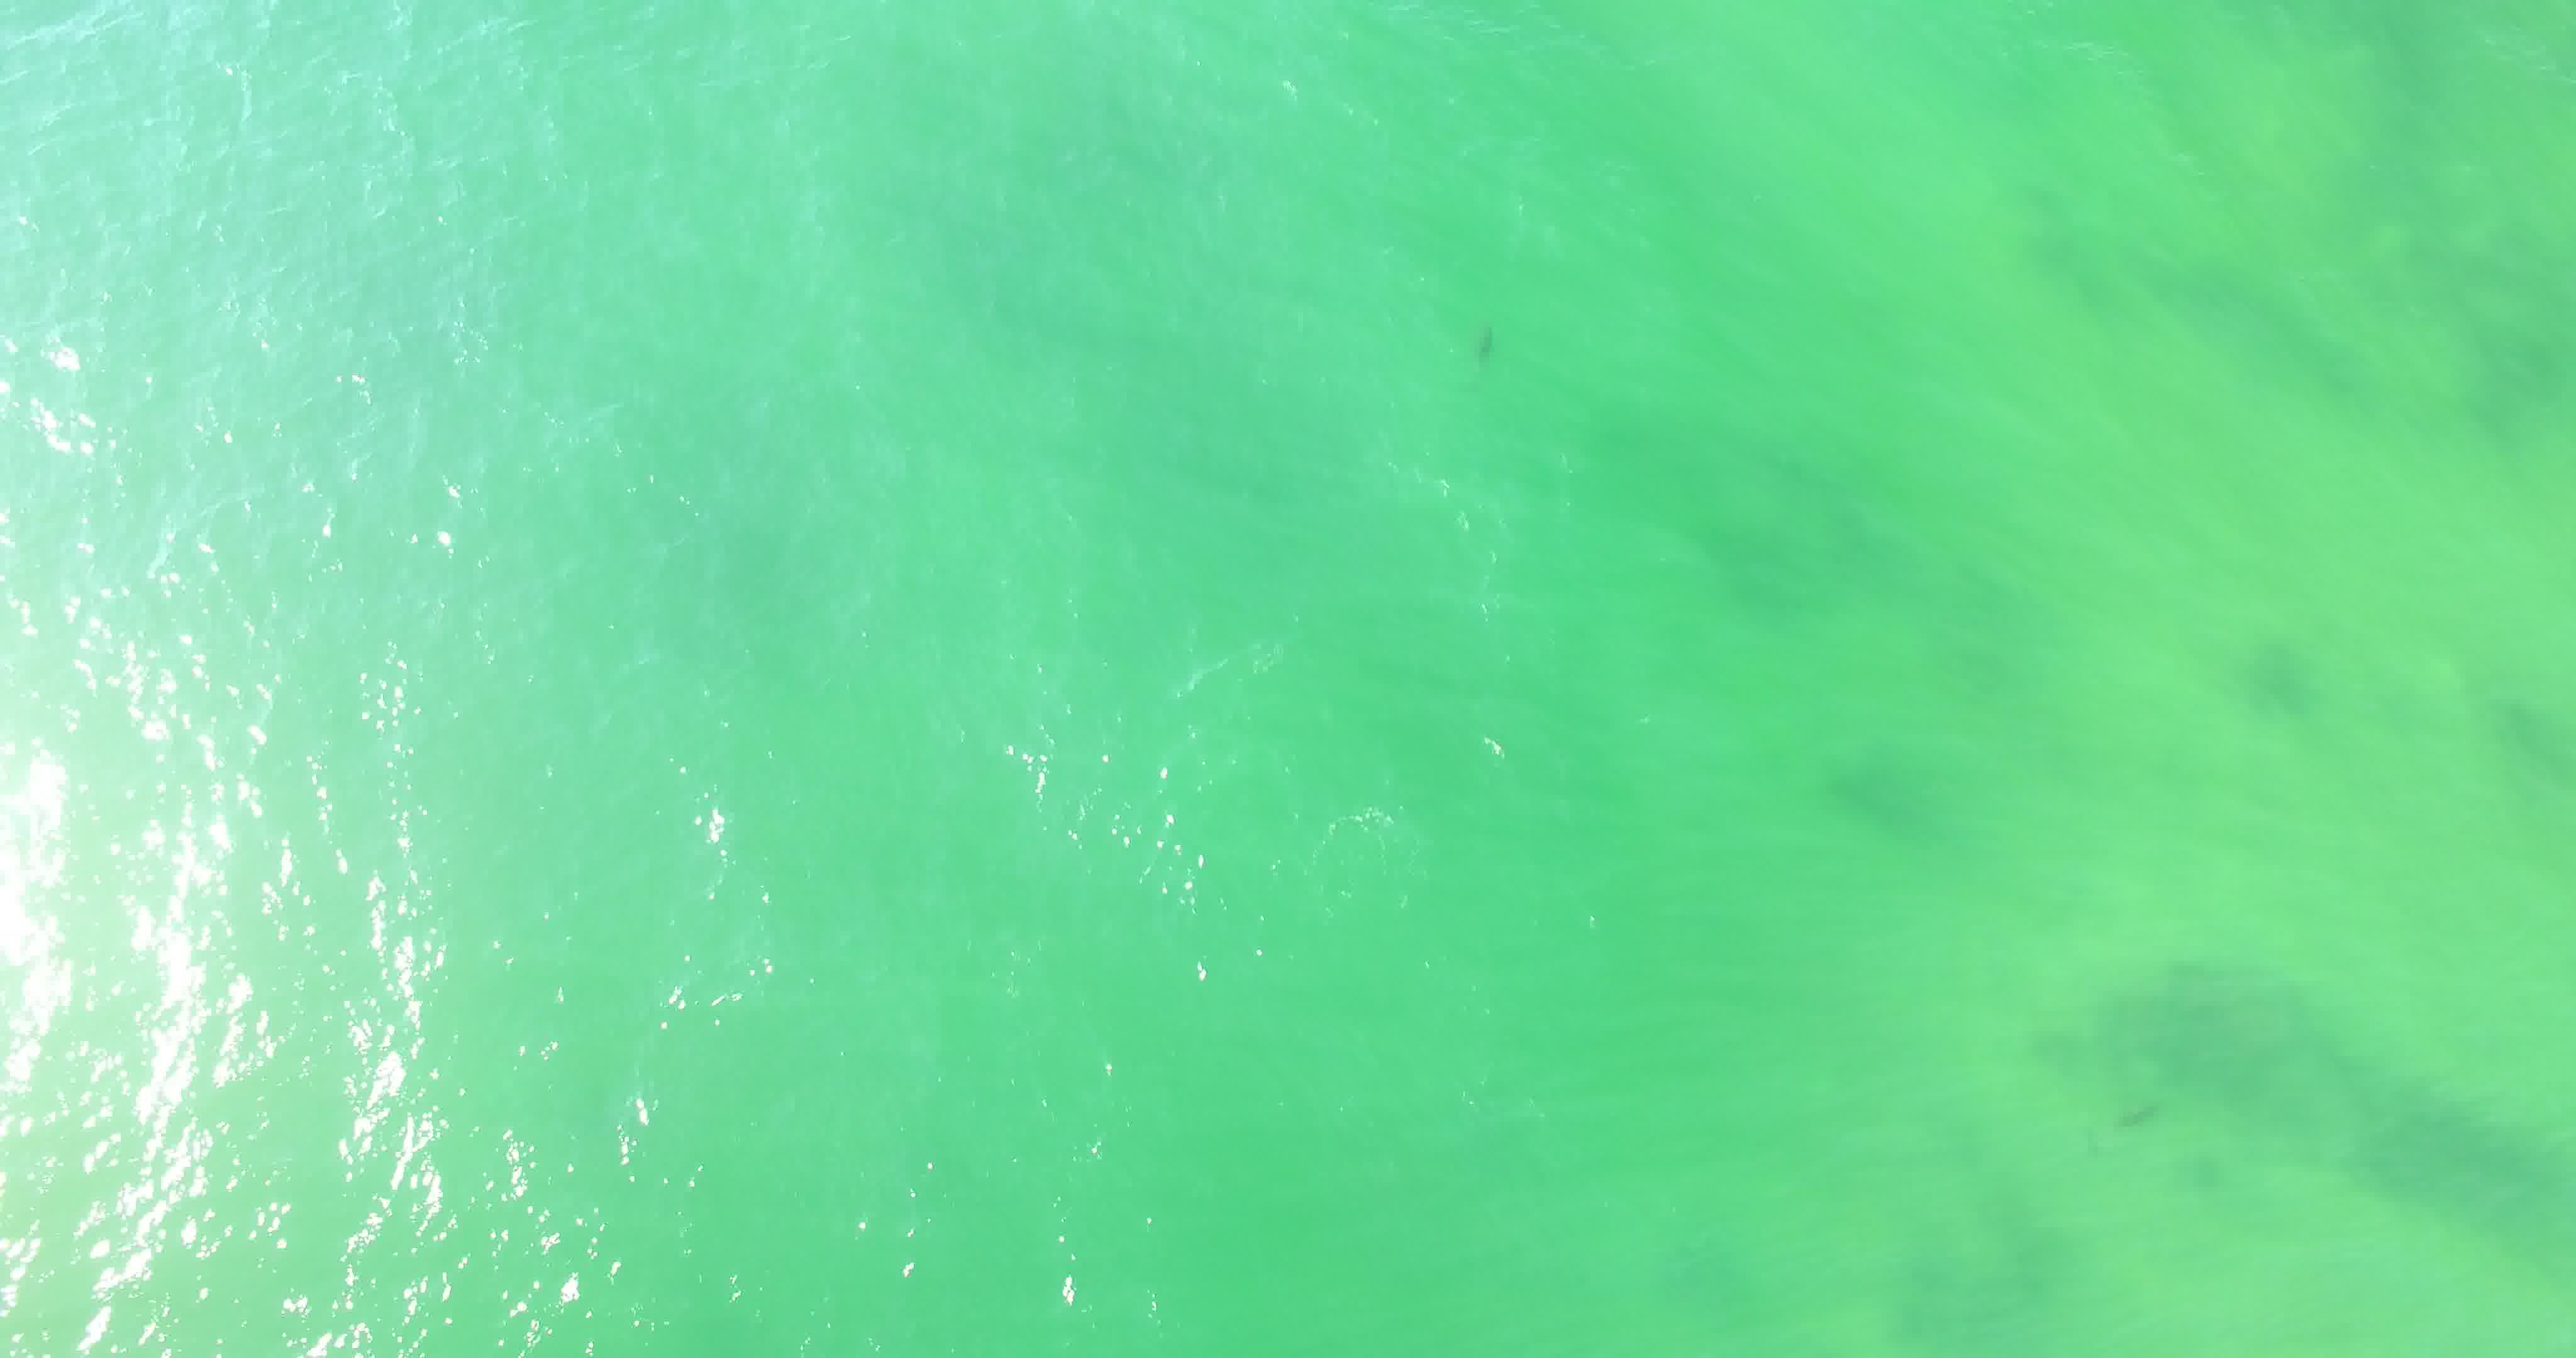dolphin: (1450, 290, 1509, 390)
